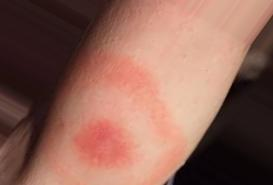Tick: (54, 98, 158, 181)
